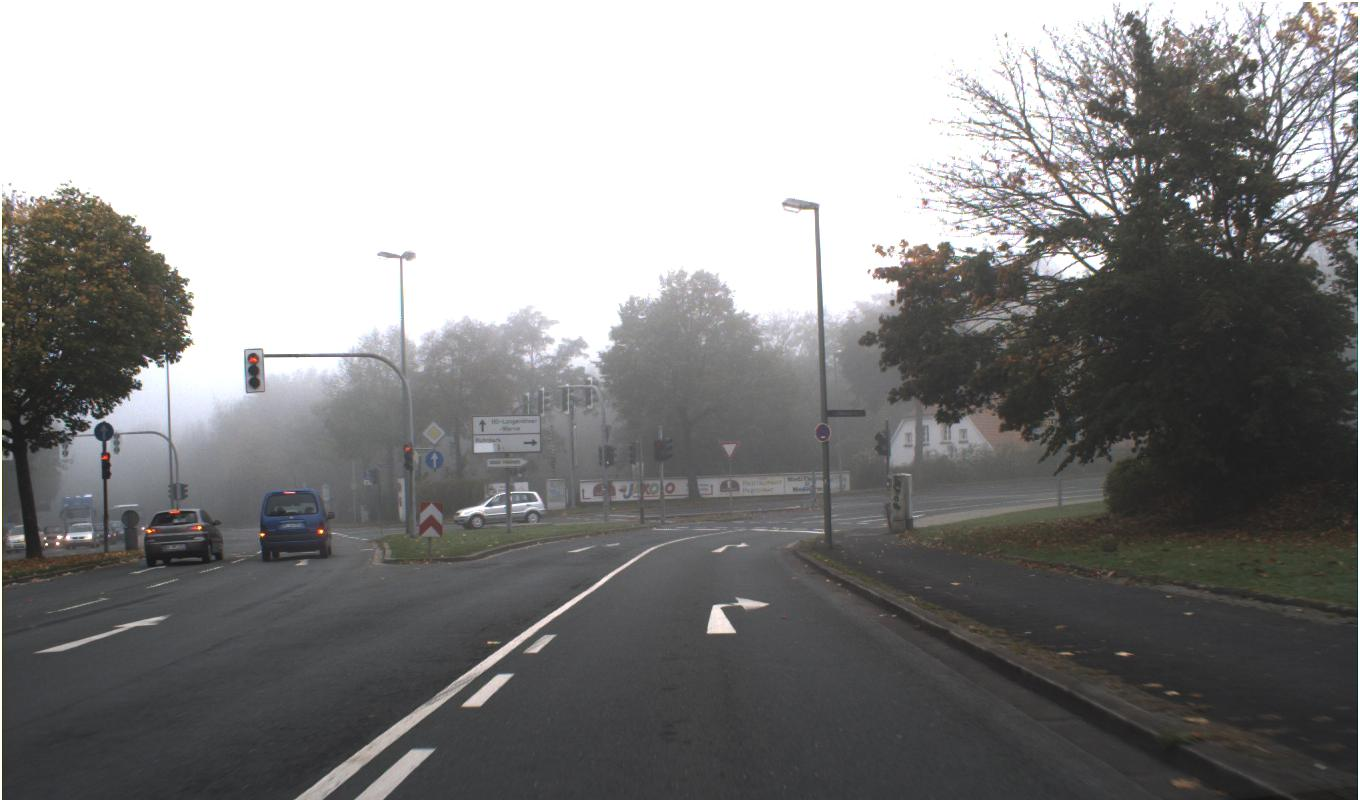mandatory: (423, 449, 444, 470)
sign: (420, 419, 447, 446), (718, 440, 739, 462)
